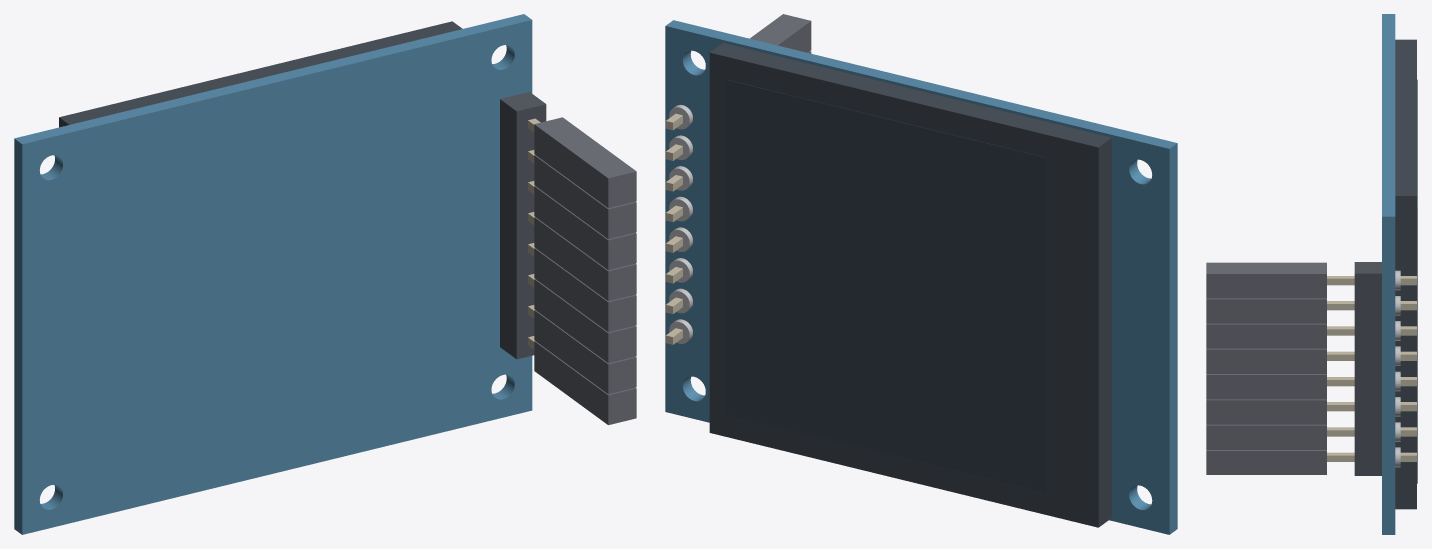
File: screen_hardware.glb
The picture shows the model from 3 angles, left to right: view 1: azimuth 30°, elevation 25°; view 2: azimuth 150°, elevation 25°; view 3: azimuth 270°, elevation 25°; orthographic projection. The views are drawn at different scales.
Parts seen in each view (by area): view 1: screen_pcb, screen_dupont, screen_header_plastic, screen_glass; view 2: screen_face, screen_glass, screen_pcb, screen_solder, screen_pins, screen_dupont; view 3: screen_dupont, screen_glass, screen_pcb, screen_header_plastic, screen_pins, screen_solder, screen_face.
Boxes of the visible parts, x1,y1,x2,y2 form: screen_pcb: (14,14,532,534); screen_dupont: (534,117,636,424); screen_header_plastic: (500,92,546,359); screen_glass: (59,21,462,127); screen_face: (726,79,1045,492); screen_glass: (709,43,1111,527); screen_pcb: (665,20,1177,534); screen_solder: (669,104,692,343); screen_pins: (665,113,682,344); screen_dupont: (750,14,811,53); screen_dupont: (1206,262,1326,474); screen_glass: (1395,39,1416,509); screen_pcb: (1382,14,1395,534); screen_header_plastic: (1354,262,1381,475); screen_pins: (1327,276,1416,461); screen_solder: (1395,270,1400,467); screen_face: (1417,79,1417,483).
Size of the model in its own units: 43.72 by 32 by 19.24.
